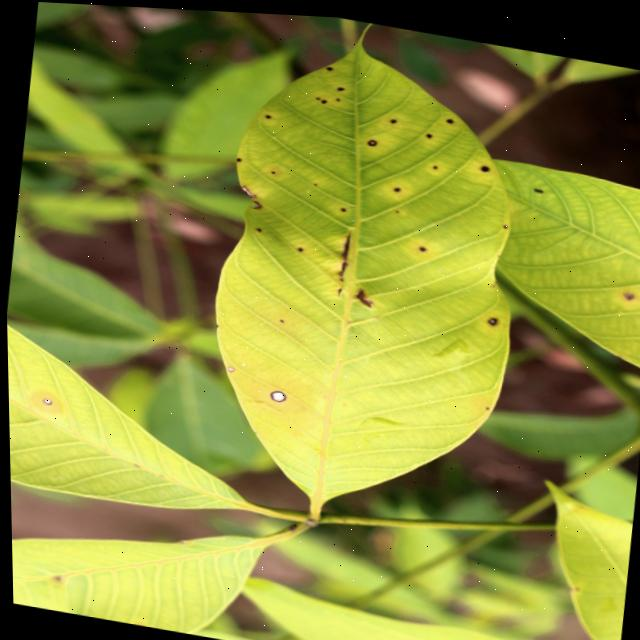Colletotrichum: (266, 386, 283, 400), (485, 311, 494, 320), (366, 135, 375, 142), (224, 364, 231, 369)
